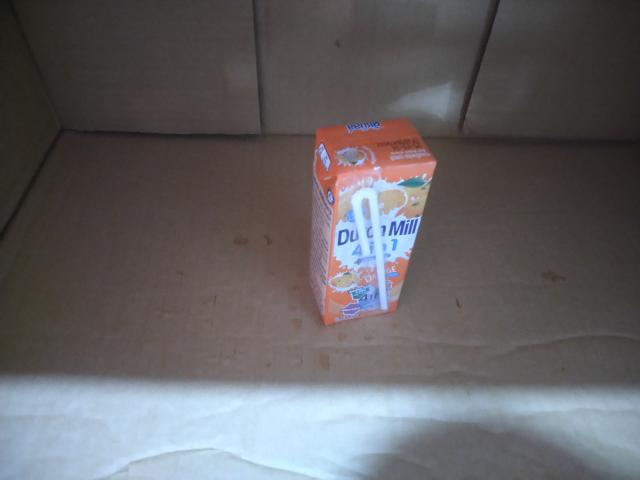drink_box: (294, 105, 439, 337)
